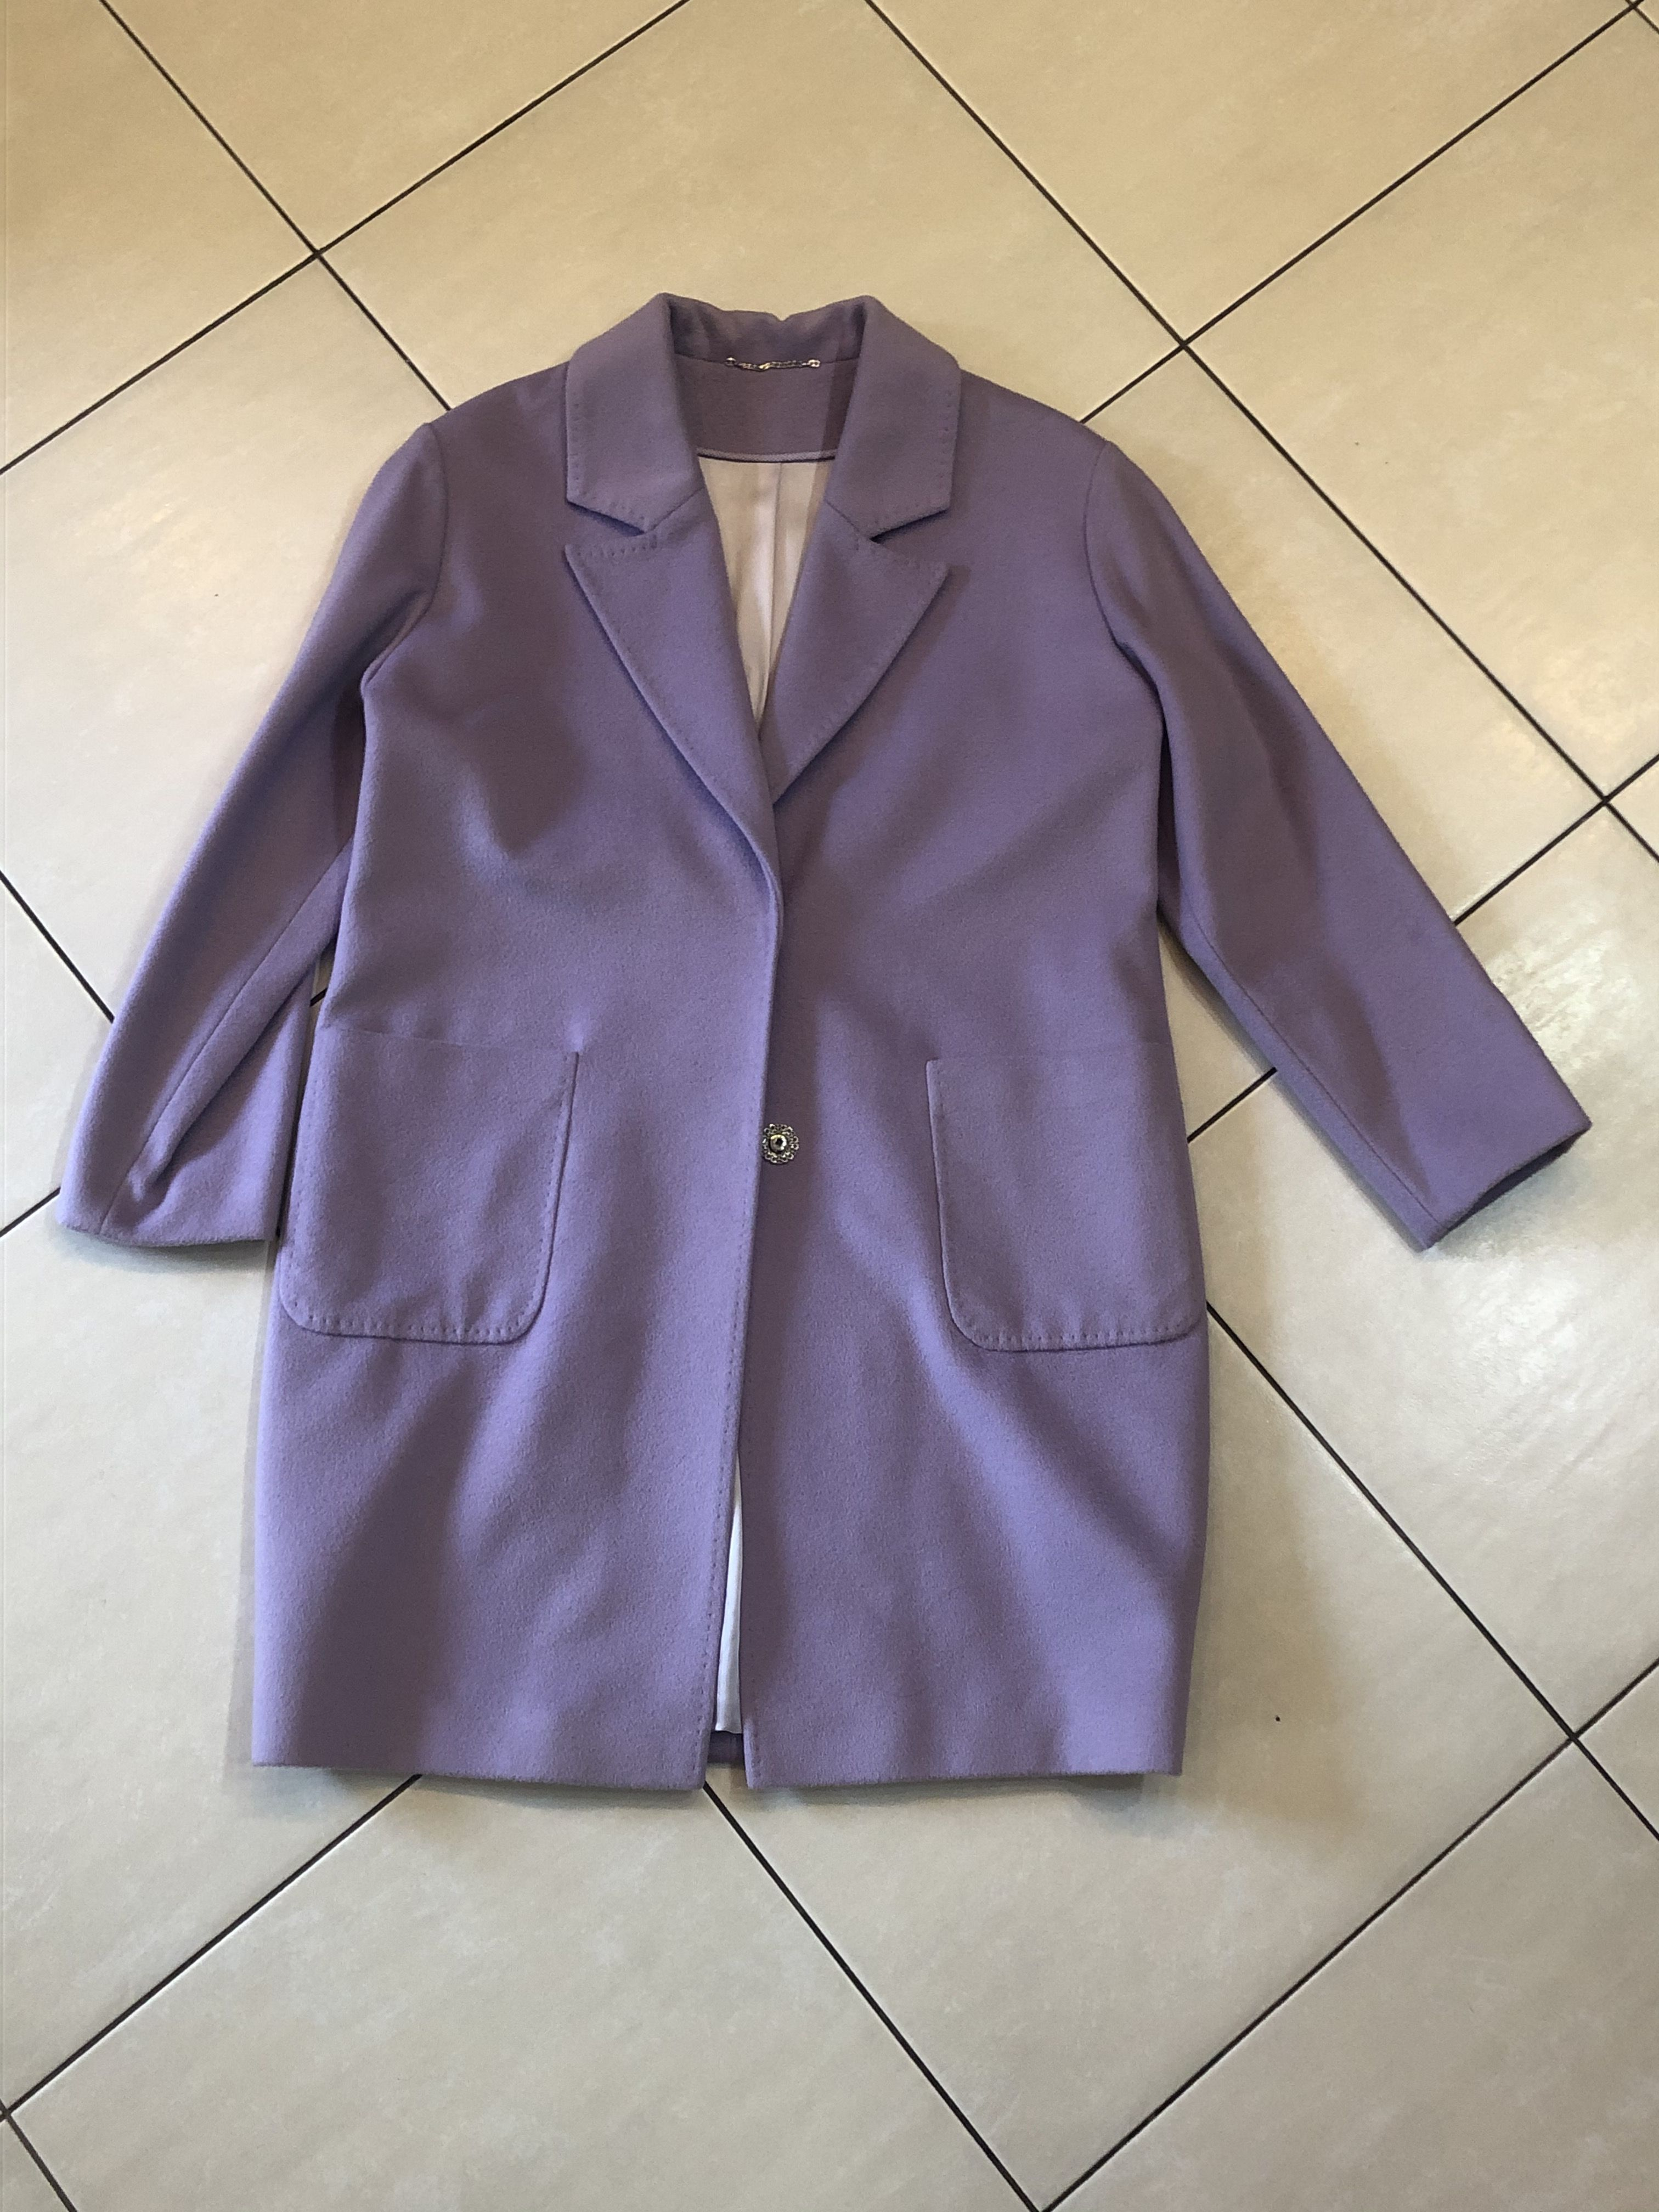clothes: (42, 270, 1596, 1796)
